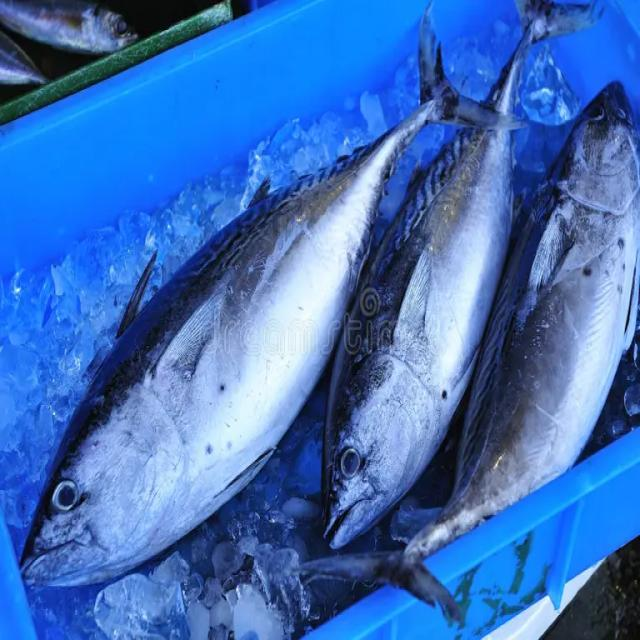Tuna: (18, 0, 528, 589)
